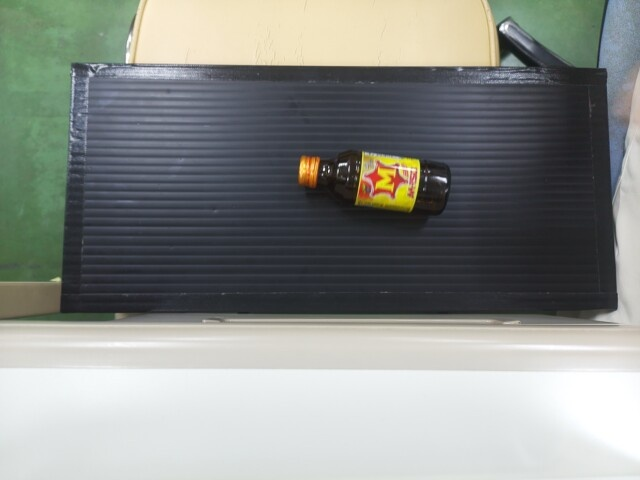glass_bottle: (294, 147, 450, 214)
